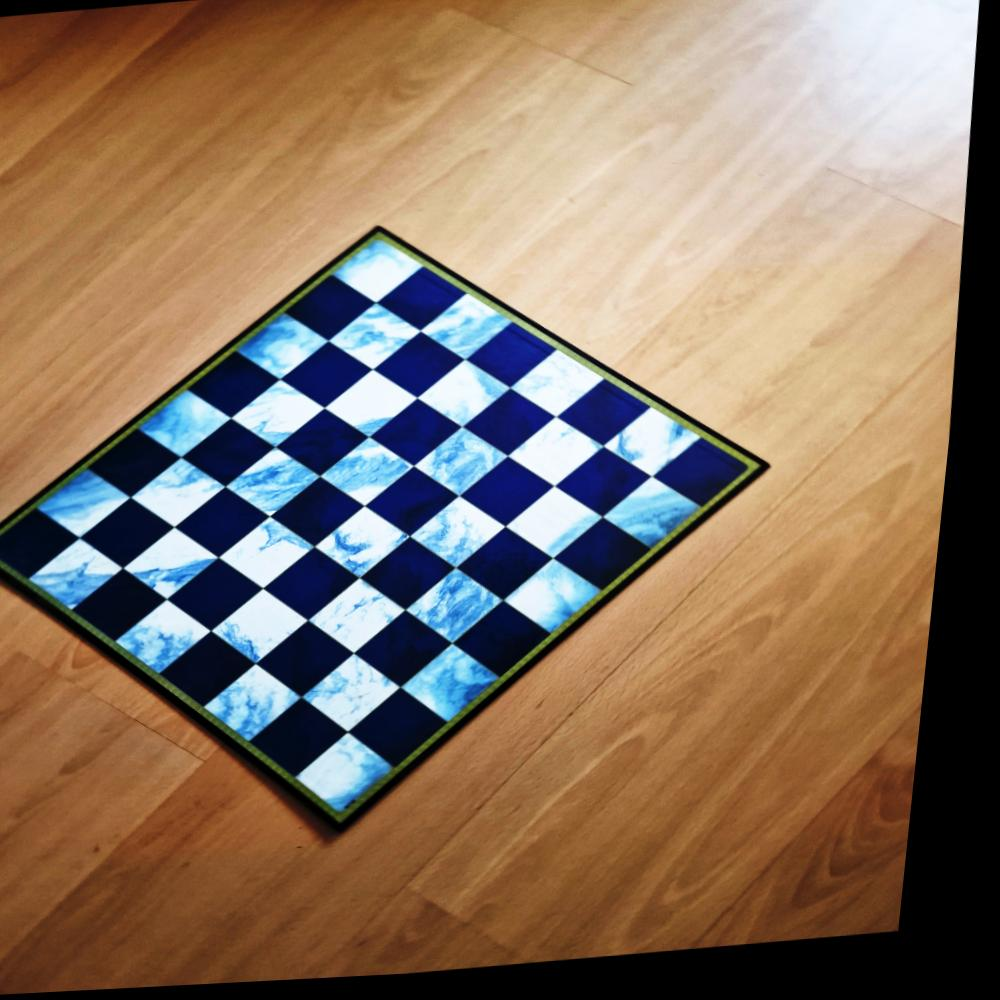chessfield: (307, 734, 421, 837), (409, 648, 523, 740), (512, 563, 625, 651), (314, 656, 424, 743), (215, 666, 324, 751), (359, 694, 466, 780), (263, 704, 369, 789), (413, 572, 520, 655), (321, 583, 427, 666), (222, 592, 329, 674), (416, 499, 524, 580), (126, 604, 230, 688), (614, 483, 719, 566), (364, 614, 468, 697), (44, 464, 149, 546), (335, 237, 440, 319), (270, 623, 374, 705), (463, 607, 567, 689), (515, 492, 620, 573), (138, 388, 244, 468), (35, 538, 138, 620), (170, 633, 274, 714), (611, 412, 716, 492), (230, 518, 333, 598), (132, 527, 235, 607), (465, 535, 568, 614), (234, 312, 341, 388), (330, 509, 430, 590), (565, 526, 666, 606), (139, 457, 241, 536), (515, 422, 618, 500), (661, 444, 768, 519), (419, 431, 523, 508), (369, 541, 470, 620), (233, 450, 336, 527), (82, 570, 183, 648), (328, 441, 430, 518), (237, 382, 339, 459), (179, 561, 279, 639), (277, 552, 377, 630), (516, 357, 618, 433), (333, 372, 433, 449), (468, 464, 568, 541), (566, 455, 667, 531), (423, 363, 521, 440), (425, 295, 524, 371), (335, 305, 435, 380), (184, 492, 283, 567), (564, 383, 663, 458), (283, 482, 380, 558), (373, 473, 471, 548), (89, 502, 188, 576), (99, 429, 196, 504), (193, 353, 292, 426), (191, 419, 288, 493), (0, 512, 95, 587), (286, 411, 382, 485), (375, 403, 472, 476), (290, 278, 387, 350), (472, 394, 568, 466), (379, 336, 473, 408), (291, 346, 385, 417), (381, 270, 474, 341), (472, 328, 565, 398)
